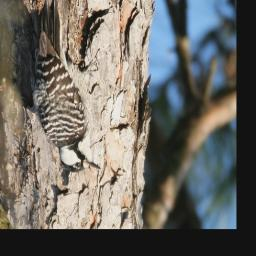Woodpecker: (31, 0, 101, 173)
